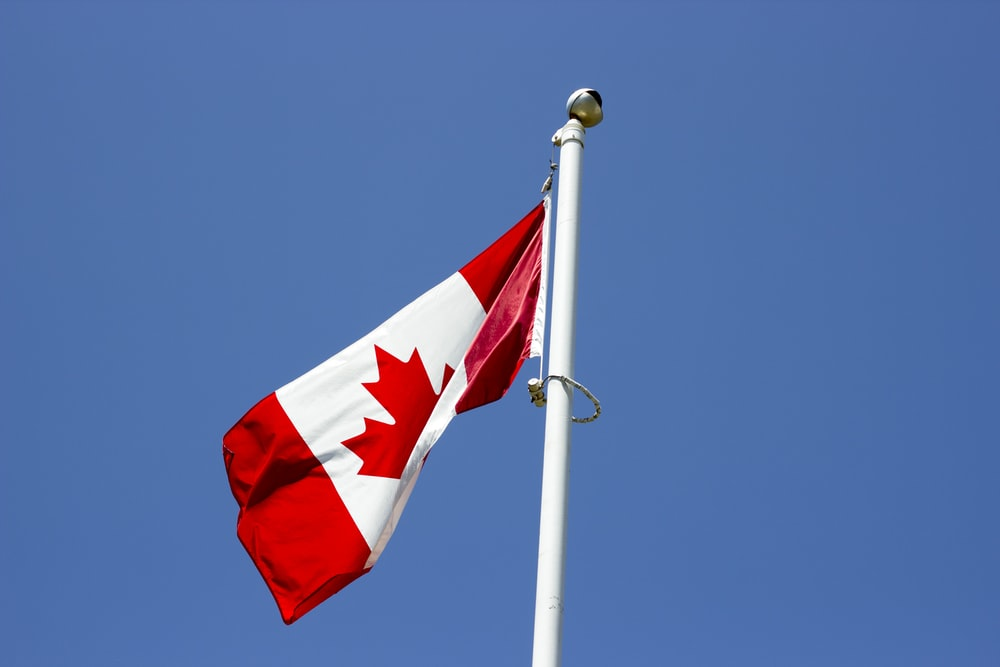Canada flag: (218, 197, 549, 621)
